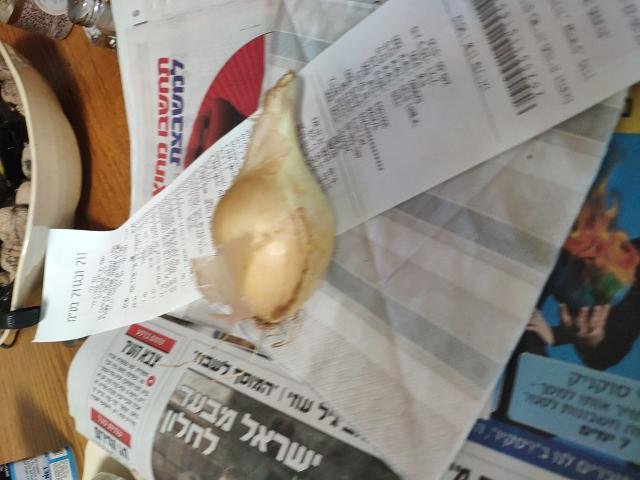onion: (202, 90, 358, 321)
